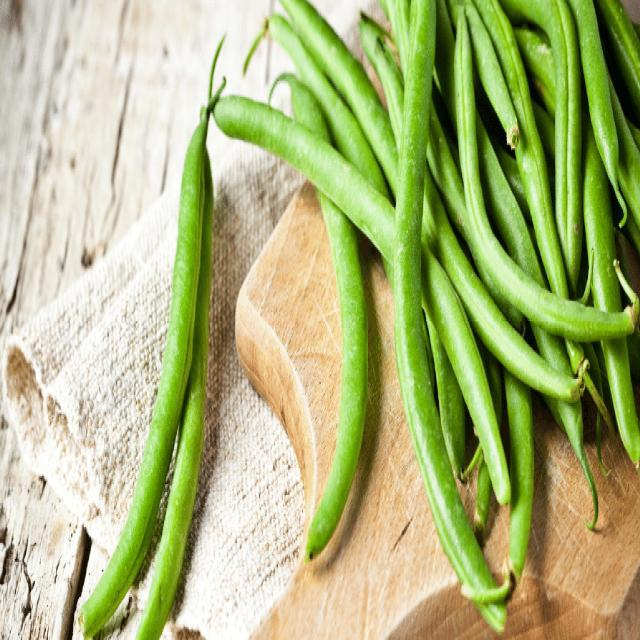Beans: (224, 0, 639, 630)
